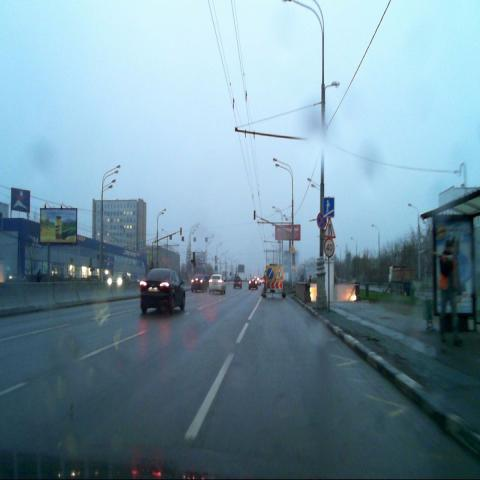6_6: (324, 197, 334, 216)
